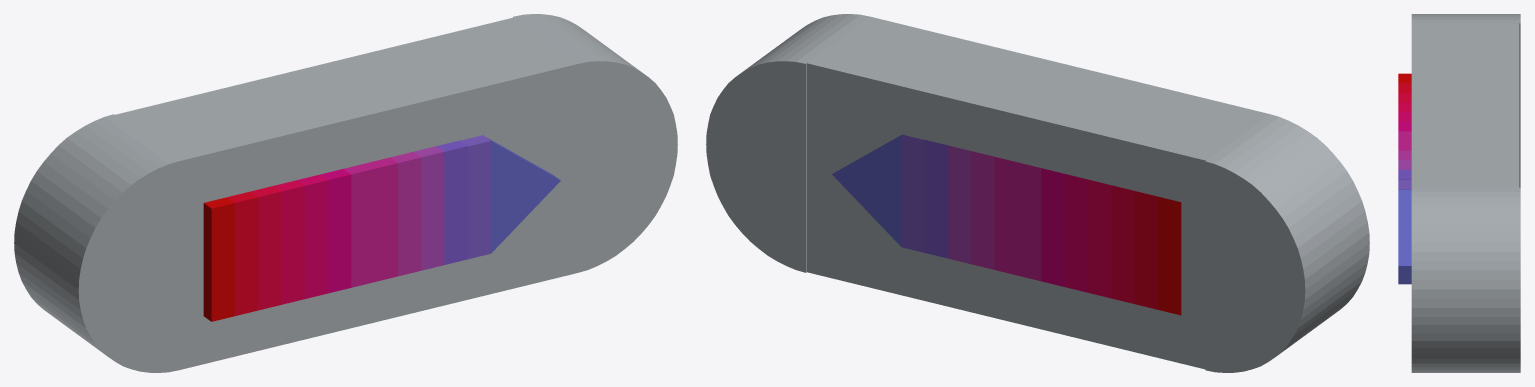
File: tinker.obj
The picture shows the model from 3 angles, left to right: view 1: azimuth 30°, elevation 25°; view 2: azimuth 150°, elevation 25°; view 3: azimuth 270°, elevation 25°; orthographic projection. The views are drawn at different scales.
Visible parts, largest first — view 1: group_0_10988977, group_0_12787854, group_0_6382789, group_0_13631488, group_0_14090275, group_0_14024807, group_0_7754948, group_0_13500539, group_0_14286930, group_0_10765485, group_0_11875487, group_0_14286907 (+1 smaller); view 2: group_0_10988977, group_0_12787854, group_0_6382789, group_0_7754948, group_0_11875487, group_0_14024807, group_0_14090275, group_0_13500539, group_0_14286907, group_0_10765485, group_0_13631488, group_0_14286930 (+1 smaller); view 3: group_0_10988977, group_0_6382789, group_0_12787854, group_0_7754948, group_0_8018880, group_0_13500539, group_0_13631488, group_0_10765485, group_0_11875487, group_0_14024807, group_0_14090275, group_0_14286907 (+1 smaller).
Part boxes in pixels (<box>): group_0_10988977: <box>14,14,677,372</box>; group_0_12787854: <box>344,157,397,287</box>; group_0_6382789: <box>487,138,560,252</box>; group_0_13631488: <box>203,197,234,321</box>; group_0_14090275: <box>227,191,258,315</box>; group_0_14024807: <box>297,174,328,298</box>; group_0_7754948: <box>437,140,467,264</box>; group_0_13500539: <box>320,169,351,293</box>; group_0_14286930: <box>274,180,304,304</box>; group_0_10765485: <box>414,146,444,270</box>; group_0_11875487: <box>390,151,421,276</box>; group_0_14286907: <box>251,186,281,310</box>; group_0_10988977: <box>706,14,1369,372</box>; group_0_12787854: <box>994,157,1041,281</box>; group_0_6382789: <box>832,135,901,246</box>; group_0_7754948: <box>924,140,948,258</box>; group_0_11875487: <box>971,151,994,269</box>; group_0_14024807: <box>1064,174,1087,292</box>; group_0_14090275: <box>1134,191,1157,309</box>; group_0_13500539: <box>1041,168,1064,286</box>; group_0_14286907: <box>1111,185,1134,303</box>; group_0_10765485: <box>948,145,971,263</box>; group_0_13631488: <box>1158,196,1181,315</box>; group_0_14286930: <box>1088,179,1111,298</box>; group_0_10988977: <box>1411,14,1520,372</box>; group_0_6382789: <box>1398,189,1411,284</box>; group_0_12787854: <box>1398,131,1411,150</box>; group_0_7754948: <box>1398,169,1411,179</box>; group_0_8018880: <box>1398,179,1411,189</box>; group_0_13500539: <box>1398,121,1411,131</box>; group_0_13631488: <box>1398,73,1411,83</box>; group_0_10765485: <box>1398,160,1411,169</box>; group_0_11875487: <box>1398,150,1411,159</box>; group_0_14024807: <box>1398,112,1411,121</box>; group_0_14090275: <box>1398,83,1411,92</box>; group_0_14286907: <box>1398,93,1411,102</box>.
Size of the model in its own units: 1.5 by 0.5 by 0.314.
